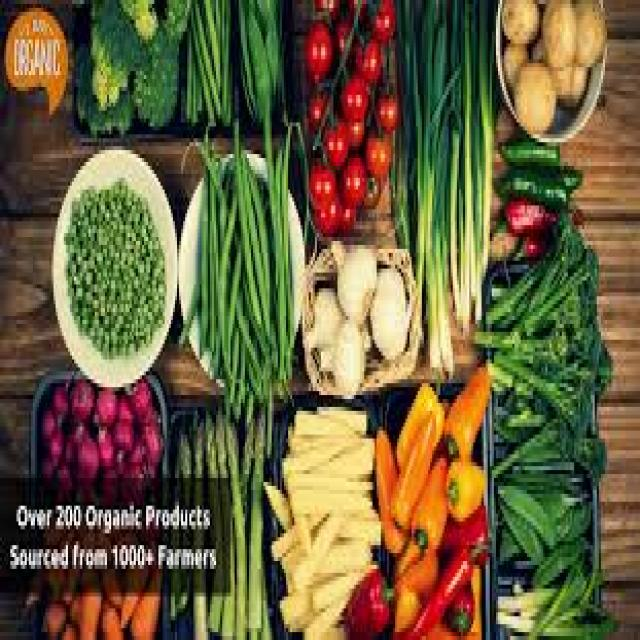organic waste: (482, 217, 594, 328), (179, 138, 249, 280), (490, 344, 609, 426), (389, 541, 486, 636), (471, 280, 595, 352), (430, 0, 452, 371), (410, 0, 432, 344), (243, 162, 276, 391), (490, 415, 607, 478), (230, 115, 262, 320), (175, 150, 208, 348), (259, 119, 282, 383), (212, 407, 237, 636), (387, 407, 434, 525), (496, 502, 589, 561), (218, 174, 241, 411), (471, 0, 488, 320), (457, 0, 473, 328), (237, 0, 282, 115), (393, 0, 414, 245), (222, 415, 245, 636), (393, 379, 442, 478), (245, 399, 265, 636), (74, 48, 130, 130), (442, 359, 488, 458), (447, 0, 461, 320), (130, 23, 175, 122), (364, 264, 412, 356), (278, 119, 294, 395), (66, 257, 146, 312), (86, 0, 140, 79), (525, 565, 584, 636), (494, 478, 551, 549), (329, 233, 375, 320), (492, 604, 617, 636), (372, 427, 403, 553), (189, 407, 206, 636), (317, 316, 368, 391), (341, 553, 387, 636), (408, 454, 444, 557), (204, 403, 220, 628), (436, 498, 486, 561), (498, 498, 543, 565), (124, 553, 160, 636), (298, 284, 342, 348), (204, 162, 218, 363), (494, 170, 566, 209), (66, 178, 103, 253), (512, 60, 554, 126), (194, 4, 218, 115), (292, 482, 373, 514), (120, 541, 148, 632), (539, 0, 576, 67), (442, 462, 486, 518), (304, 442, 370, 478), (494, 581, 593, 604), (290, 407, 362, 438), (278, 439, 335, 478), (177, 431, 189, 612), (124, 458, 160, 518), (574, 0, 605, 67), (311, 565, 362, 604), (494, 194, 558, 225), (105, 178, 132, 249), (247, 12, 267, 107), (395, 557, 438, 601), (189, 24, 210, 114), (282, 423, 364, 446), (313, 399, 364, 435), (276, 585, 315, 632), (66, 423, 101, 474), (535, 482, 584, 518), (498, 138, 558, 166), (78, 557, 99, 636), (302, 24, 330, 83), (442, 581, 472, 636), (500, 0, 539, 40), (132, 288, 162, 340), (76, 312, 140, 336), (262, 478, 292, 529), (308, 506, 338, 557), (329, 510, 377, 541), (393, 577, 420, 632), (300, 604, 346, 636), (306, 154, 334, 206), (313, 541, 364, 569), (66, 375, 95, 423), (118, 0, 156, 36), (352, 36, 381, 83), (126, 375, 154, 423), (268, 514, 302, 553), (339, 71, 366, 119), (169, 454, 177, 616), (336, 446, 370, 482), (241, 411, 251, 533), (465, 565, 482, 636), (362, 126, 387, 174), (321, 118, 346, 166), (512, 166, 584, 182), (340, 150, 362, 202), (373, 79, 395, 130), (146, 222, 163, 288), (500, 43, 525, 87), (366, 0, 393, 40), (216, 0, 226, 107), (130, 190, 146, 256), (282, 553, 315, 585), (109, 415, 136, 454), (43, 597, 70, 636), (511, 229, 552, 253), (552, 67, 582, 99), (93, 383, 117, 423), (140, 415, 160, 458), (305, 91, 329, 126), (158, 0, 188, 28), (183, 40, 194, 114), (49, 383, 68, 423), (360, 174, 379, 213), (101, 569, 119, 608), (335, 20, 354, 55), (101, 604, 121, 636), (93, 427, 109, 466), (37, 411, 54, 446), (342, 0, 366, 24), (115, 387, 132, 419), (317, 202, 337, 229), (342, 115, 362, 142), (54, 462, 74, 486), (335, 198, 352, 225), (310, 0, 338, 16), (33, 450, 53, 470), (66, 593, 80, 620), (49, 431, 64, 454), (92, 340, 134, 348), (62, 620, 78, 636)
